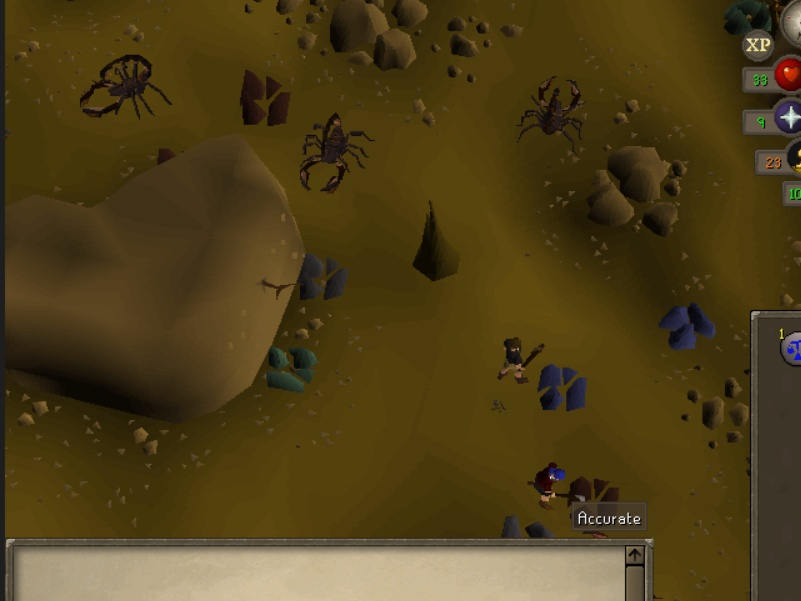adamant: (261, 342, 322, 394), (720, 1, 779, 34)
iron: (236, 67, 296, 130), (566, 464, 626, 527)
mithril: (534, 360, 597, 415), (656, 297, 719, 352)
